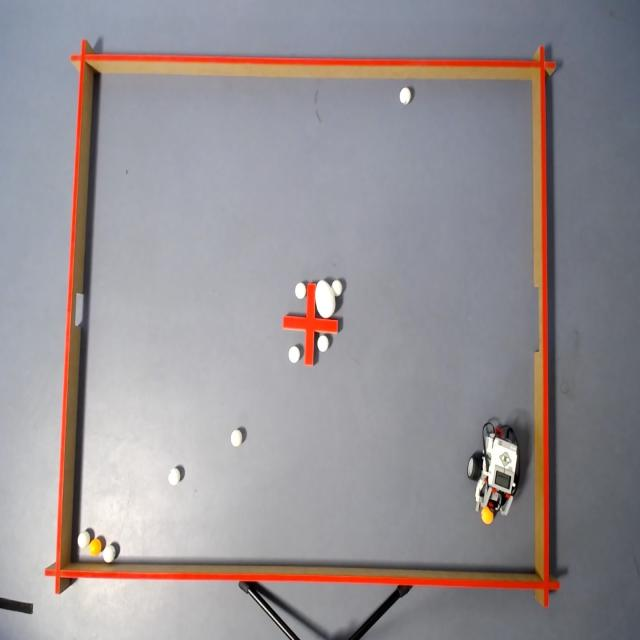boundaries: (44, 39, 561, 609), (72, 74, 539, 573)
cross: (282, 283, 339, 367)
egg: (315, 280, 337, 319)
large_goal: (534, 279, 548, 359)
orange_ball: (480, 504, 494, 526), (89, 538, 102, 556)
robot: (466, 421, 522, 527)
small_goal: (68, 289, 83, 330)
white_ball: (103, 545, 116, 564), (168, 467, 181, 486), (399, 86, 411, 106), (294, 282, 307, 300), (230, 429, 242, 448), (288, 346, 300, 364), (317, 335, 329, 353), (331, 279, 343, 297), (78, 531, 90, 548)
